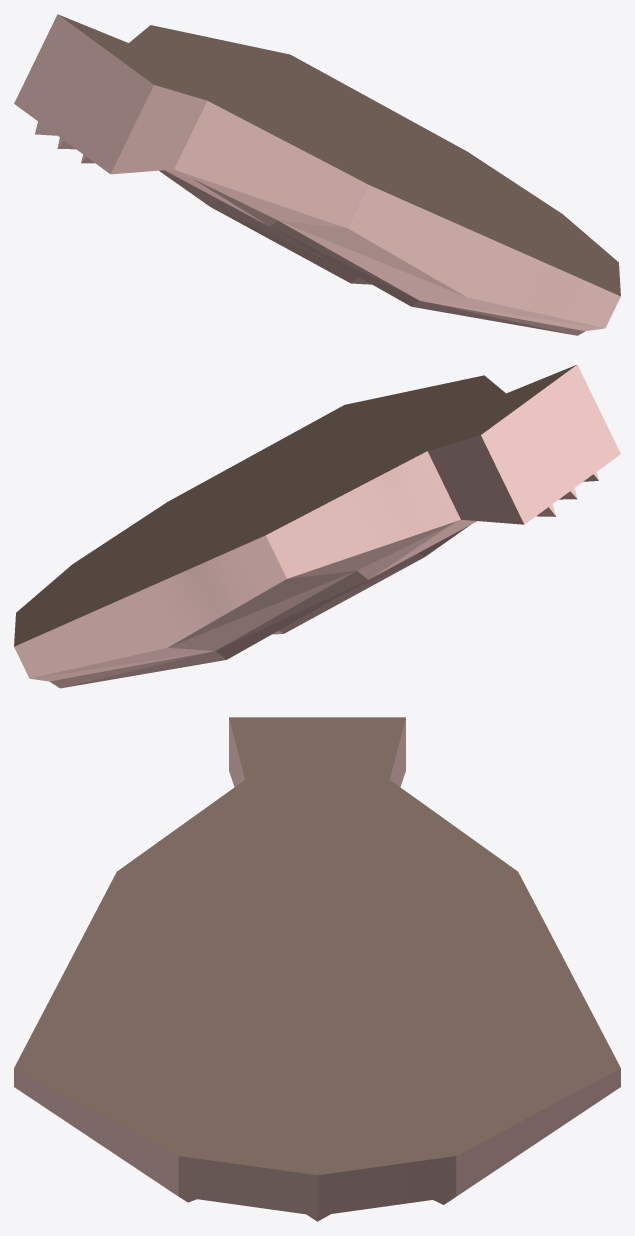
File: shellfishDown.obj
3 renders of one model, top to bottom at view 1: azimuth 30°, elevation 25°; view 2: azimuth 150°, elevation 25°; view 3: azimuth 270°, elevation 25°, orthographic. The views are drawn at different scales.
Parts seen in each view (by area): view 1: Cube; view 2: Cube; view 3: Cube.
Boxes of the visible parts, box(x1,y1,x2,y2) form: Cube: box(14, 14, 620, 335); Cube: box(14, 364, 620, 688); Cube: box(14, 717, 620, 1221).
Bounding box in the file's own units: 2.9 × 1.89 × 3.28.
1 material, 1 textured.
